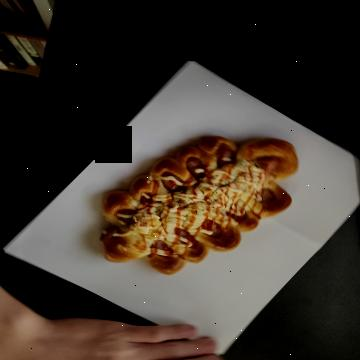pizza_bread: (125, 62, 268, 264)
